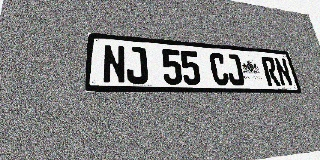5: (161, 49, 183, 85), (180, 50, 202, 85)
C: (208, 52, 230, 85)
J: (126, 46, 148, 84), (224, 54, 245, 86)
N: (103, 44, 126, 84), (273, 57, 294, 86)
R: (261, 56, 281, 86)
